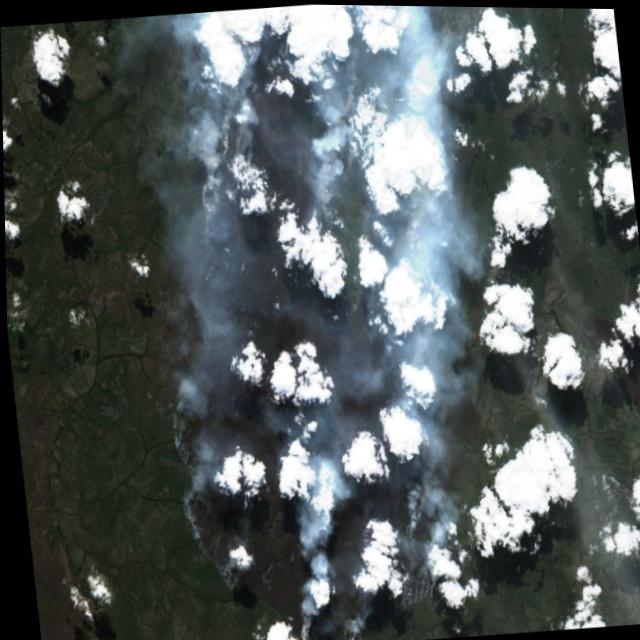fire: (118, 1, 500, 640)
